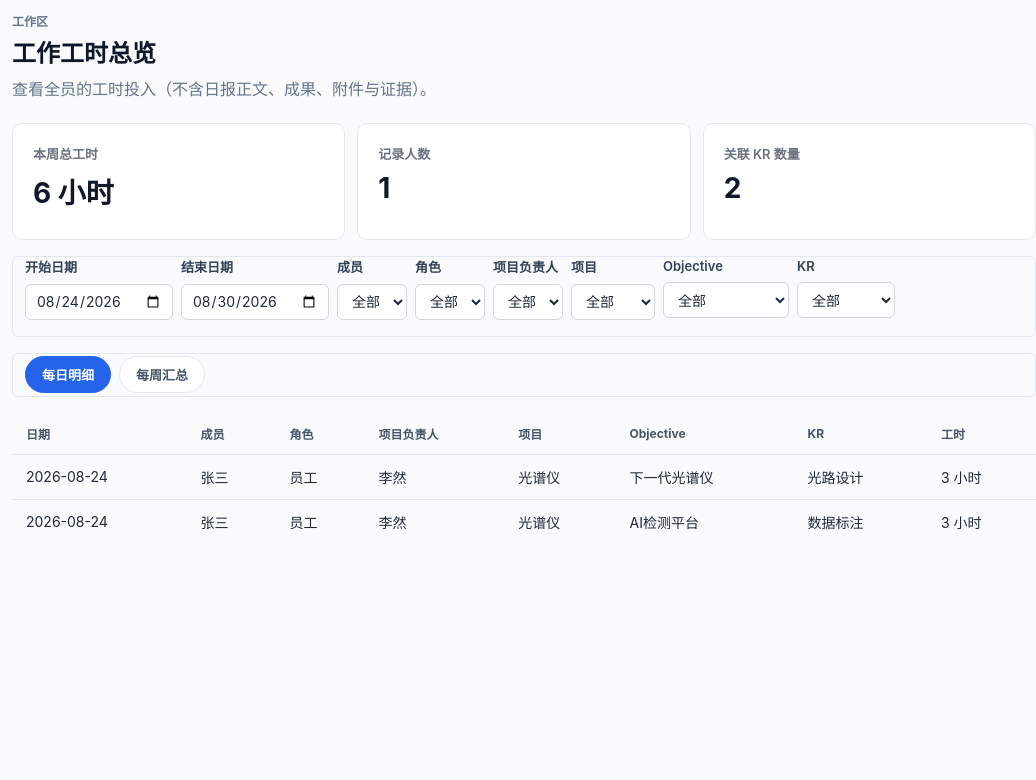
Test: HrWorkHoursPage › cascades KR options by the selected objective
Expected: the table is shown, [12,413,1035,544]
Step 1. Select "下一代光谱仪" in the dropdown labelled "Objective" → (726,300), box [663,282,789,318]
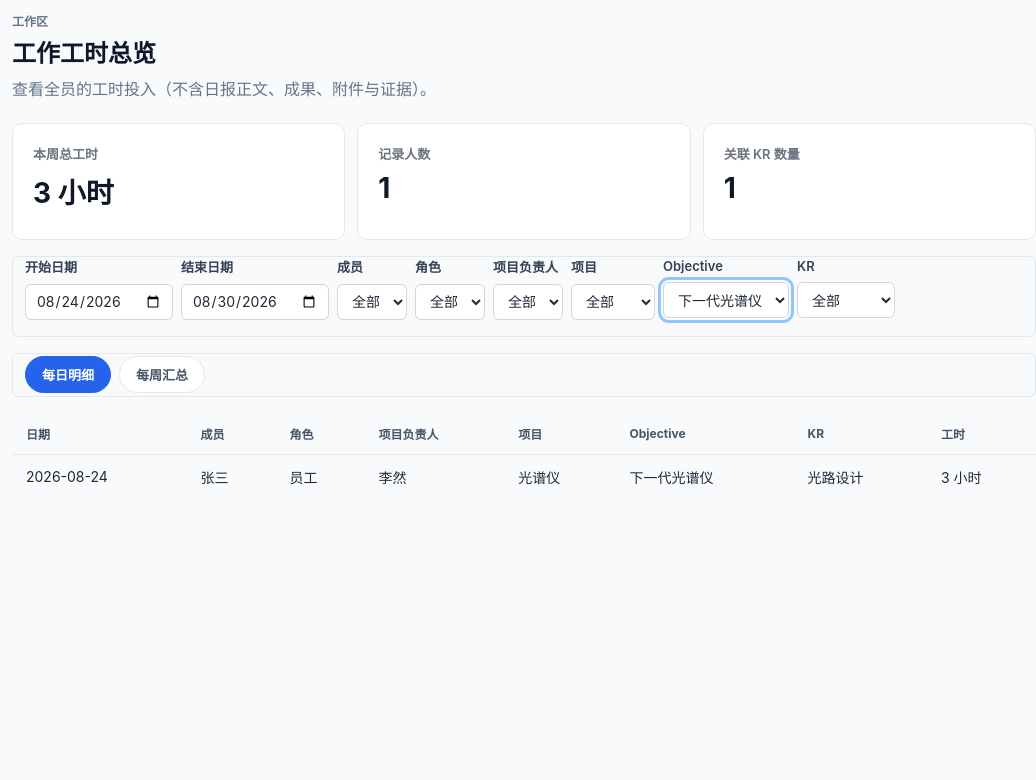
Now the cell "数据标注" is gone
